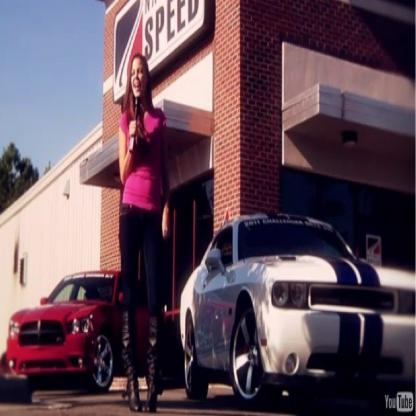Vehicle: (179, 216, 415, 407)
